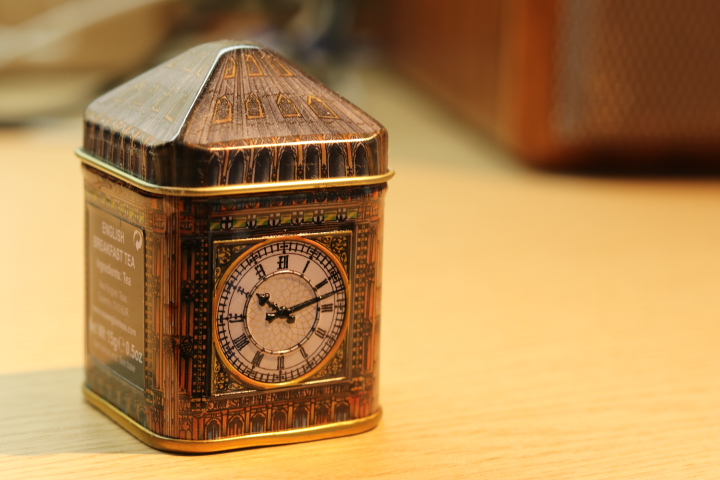Big Ben: (69, 30, 404, 476)
